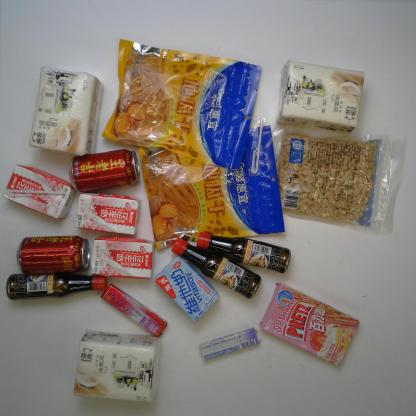Candy: (101, 282, 168, 337), (198, 326, 262, 363)
Dessert: (258, 281, 360, 368)
Dried Fruit: (101, 38, 264, 171), (136, 122, 287, 254), (265, 122, 396, 229)
Drink: (68, 148, 141, 194), (15, 235, 91, 274)
Milk: (153, 255, 221, 322), (2, 164, 77, 220), (74, 192, 141, 235), (90, 235, 154, 280)
Seasoner: (170, 237, 262, 300), (195, 230, 293, 274), (4, 273, 108, 301)
Tissue: (26, 65, 104, 160), (275, 58, 366, 135), (72, 329, 161, 402)
